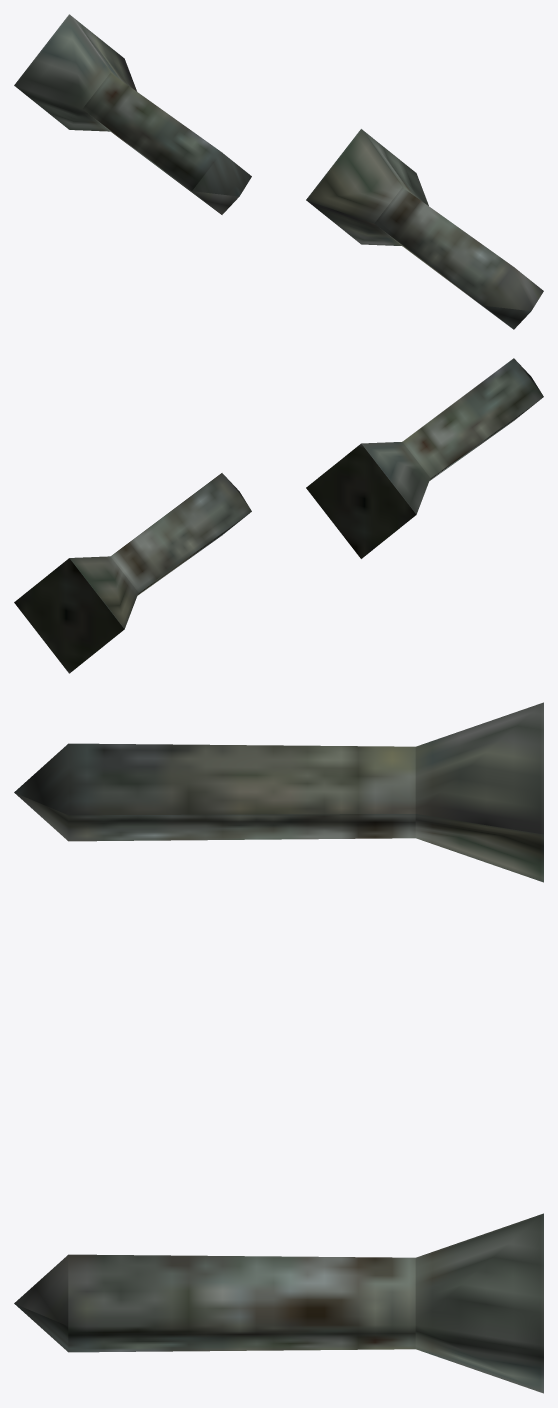
The model's file is xwing_thruster_pos_s02_l2.fbx.
3 views of the same model, one above another, from view 1: azimuth 30°, elevation 25°; view 2: azimuth 150°, elevation 25°; view 3: azimuth 270°, elevation 25° (orthographic). The views are drawn at different scales.
Parts seen in each view (by area): view 1: mesh_node; view 2: mesh_node; view 3: mesh_node.
Part boxes in pixels (x1,y1,x2,y2): mesh_node: (14, 14, 543, 329); mesh_node: (14, 358, 543, 673); mesh_node: (14, 702, 543, 1393).
Bounding box in the file's own units: 4.81 × 3.45 × 3.53.
Materials: 1 (1 with a texture image).
